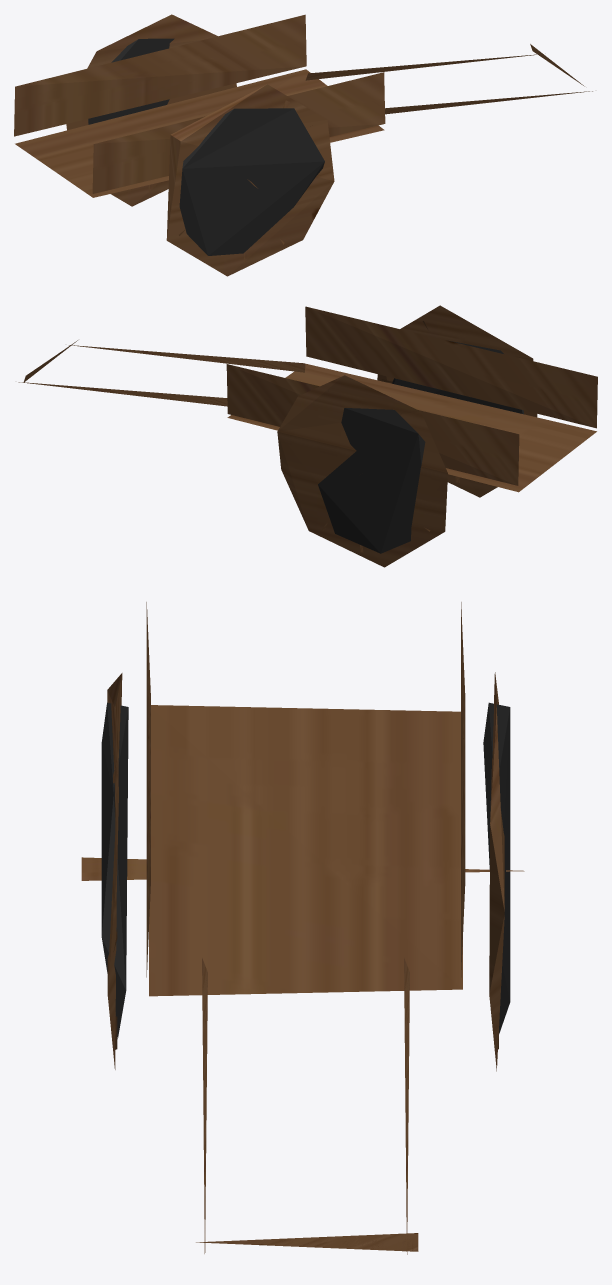
Rendered from arba_cart_lod2.glb.
3 renders of one model, top to bottom at view 1: azimuth 30°, elevation 25°; view 2: azimuth 150°, elevation 25°; view 3: azimuth 270°, elevation 25°, orthographic. The views are drawn at different scales.
Visible parts, largest first — view 1: m; view 2: m; view 3: m.
Boxes of the visible parts, x1,y1,x2,y2 form: m: [14, 14, 592, 276]; m: [18, 305, 597, 567]; m: [81, 602, 524, 1254].
Size of the model in its own units: 5.34 by 1.8 by 2.
Materials: 2 (1 with a texture image).
